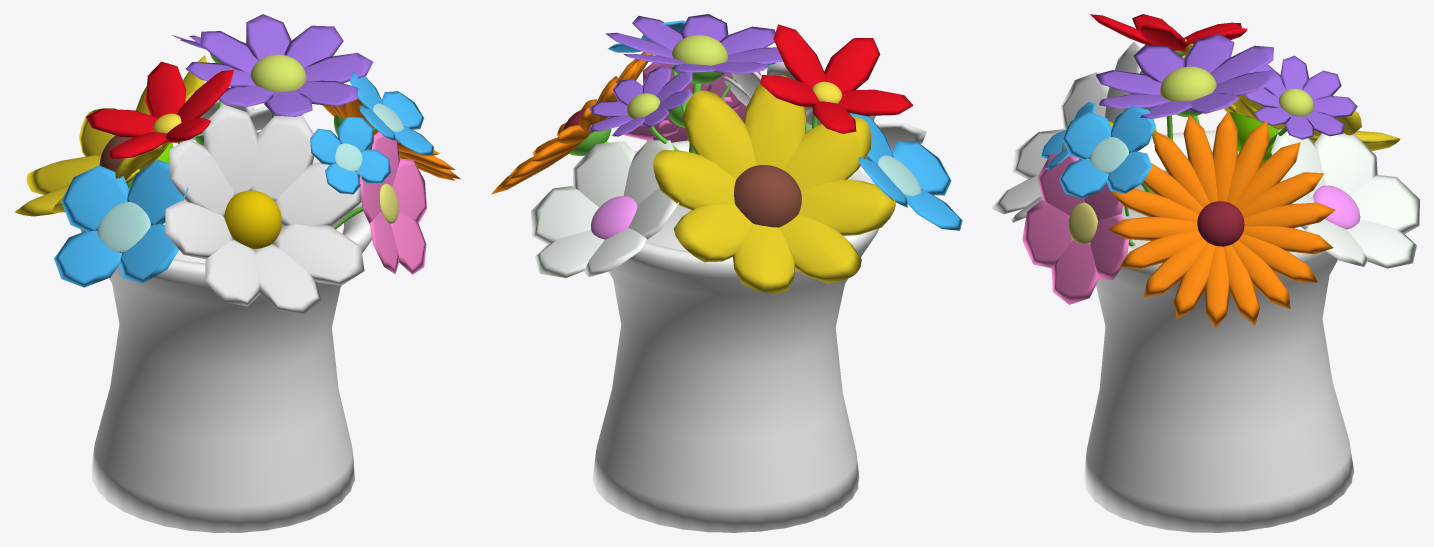
The model's file is bouquet.fbx.
3 views of the same model, side by side, from view 1: azimuth 30°, elevation 25°; view 2: azimuth 150°, elevation 25°; view 3: azimuth 270°, elevation 25° (orthographic). The views are drawn at different scales.
Parts seen in each view (by area): view 1: 花瓶; view 2: 花瓶; view 3: 花瓶.
Boxes of the visible parts, bbox=[...] form: 花瓶: bbox=[15, 14, 460, 532]; 花瓶: bbox=[491, 14, 962, 532]; 花瓶: bbox=[991, 14, 1419, 532].
Bounding box in the file's own units: 125 × 128 × 110.
